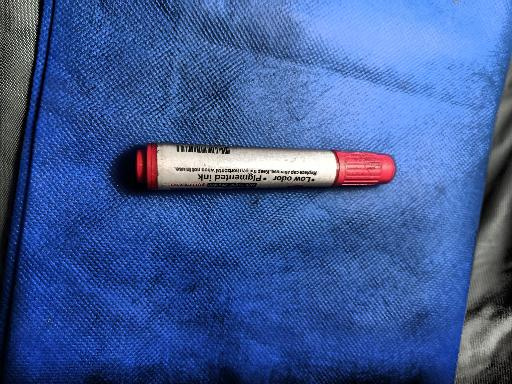marcador rojo: (136, 143, 394, 190)
